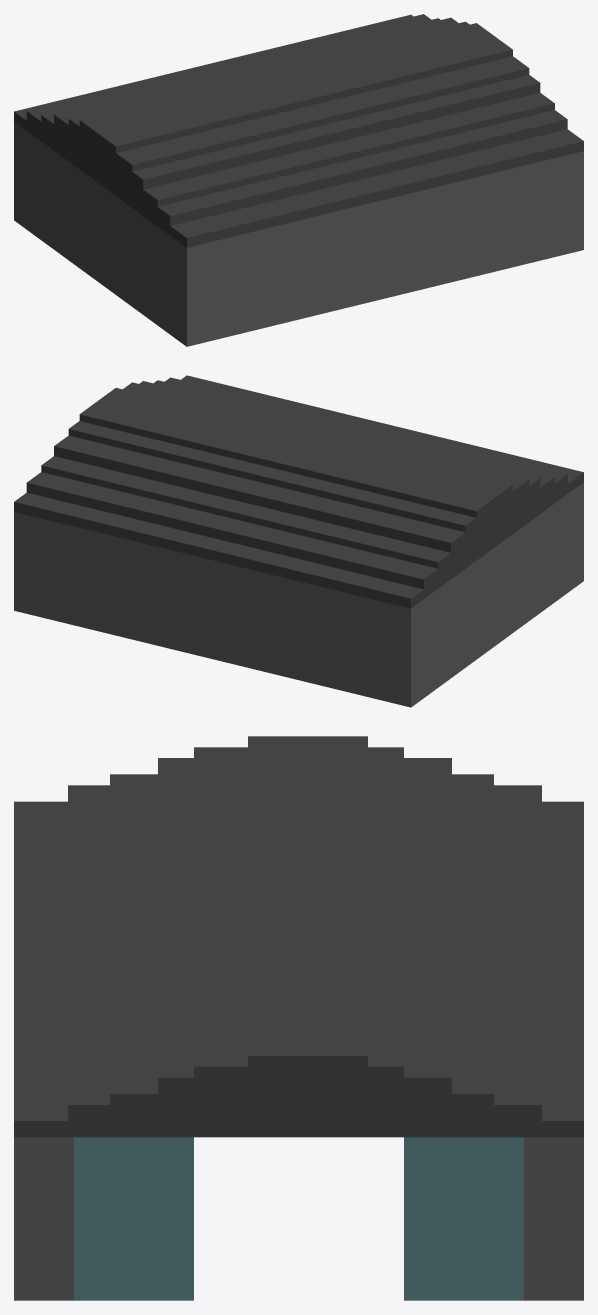
The model's file is Hangar_withDoors.obj.
3 renders of one model, top to bottom at view 1: azimuth 30°, elevation 25°; view 2: azimuth 150°, elevation 25°; view 3: azimuth 270°, elevation 25°, orthographic. The views are drawn at different scales.
Size of the model in its own units: 126 by 45 by 95.
